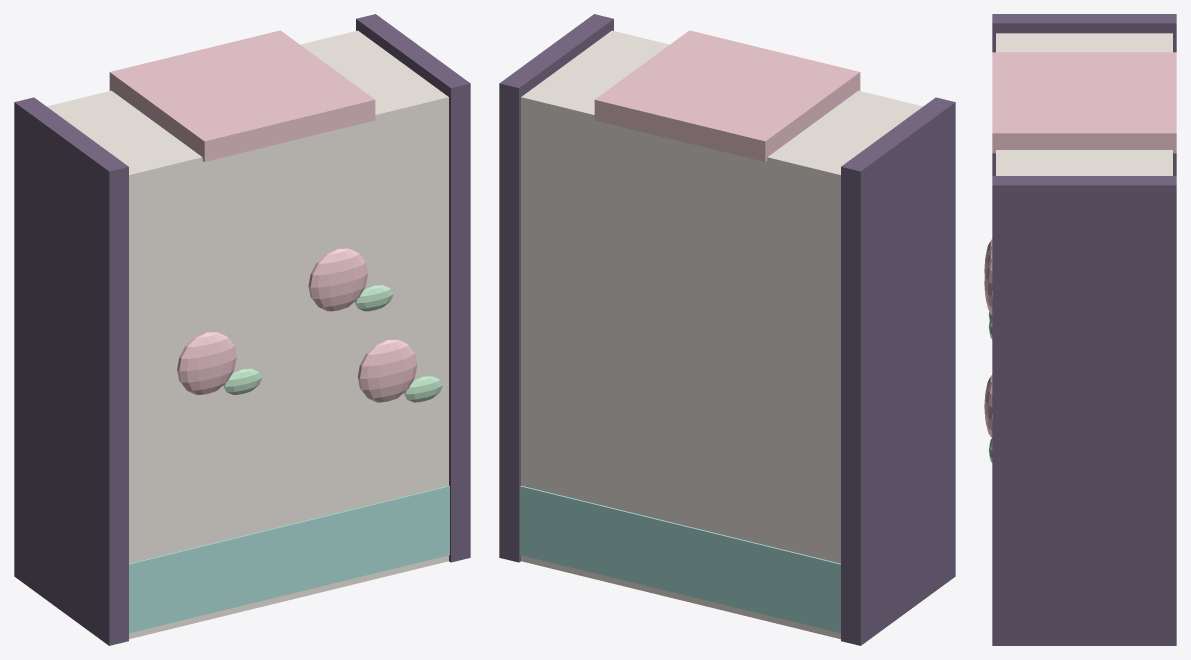
File: item_73_tissue_pack.glb
3 renders of one model, left to right at view 1: azimuth 30°, elevation 25°; view 2: azimuth 150°, elevation 25°; view 3: azimuth 270°, elevation 25°, orthographic. The views are drawn at different scales.
Parts seen in each view (by area): view 1: I73_Body, I73_Trim0, I73_Band, I73_Seal, I73_Trim1, I73_Flower2, I73_Flower0, I73_Flower1, I73_Leaf2, I73_Leaf1, I73_Leaf0; view 2: I73_Body, I73_Trim0, I73_Band, I73_Seal, I73_Trim1; view 3: I73_Trim1, I73_Seal, I73_Body, I73_Trim0, I73_Flower1, I73_Flower2.
Part boxes in pixels (bbox=[...]): I73_Body: bbox=[47, 30, 448, 639]; I73_Trim0: bbox=[14, 97, 128, 645]; I73_Band: bbox=[129, 485, 449, 633]; I73_Seal: bbox=[109, 30, 375, 161]; I73_Trim1: bbox=[356, 14, 470, 562]; I73_Flower2: bbox=[357, 339, 417, 402]; I73_Flower0: bbox=[177, 331, 236, 394]; I73_Flower1: bbox=[308, 248, 367, 311]; I73_Leaf2: bbox=[404, 376, 442, 402]; I73_Leaf1: bbox=[354, 284, 393, 311]; I73_Leaf0: bbox=[223, 368, 261, 394]; I73_Body: bbox=[521, 30, 922, 639]; I73_Trim0: bbox=[841, 97, 955, 645]; I73_Band: bbox=[520, 485, 840, 633]; I73_Seal: bbox=[594, 30, 860, 161]; I73_Trim1: bbox=[499, 14, 613, 562]; I73_Trim1: bbox=[992, 176, 1176, 645]; I73_Seal: bbox=[992, 52, 1176, 153]; I73_Body: bbox=[996, 33, 1172, 175]; I73_Trim0: bbox=[992, 14, 1176, 175]; I73_Flower1: bbox=[984, 251, 992, 314]; I73_Flower2: bbox=[984, 375, 992, 438].
Bounding box in the file's own units: 0.11 × 0.14 × 0.0522.
